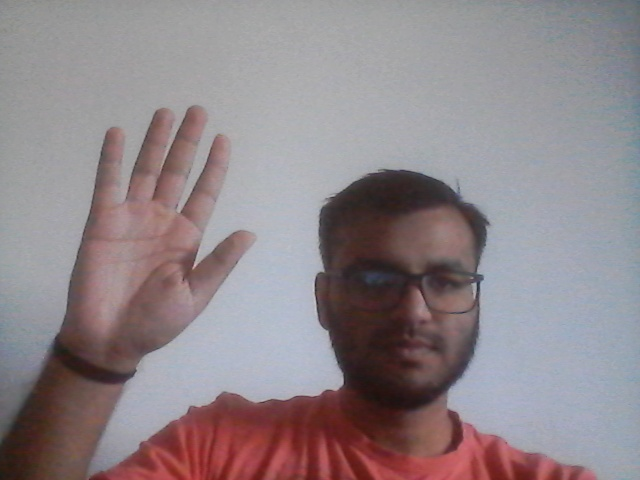Hello: (55, 95, 267, 371)
